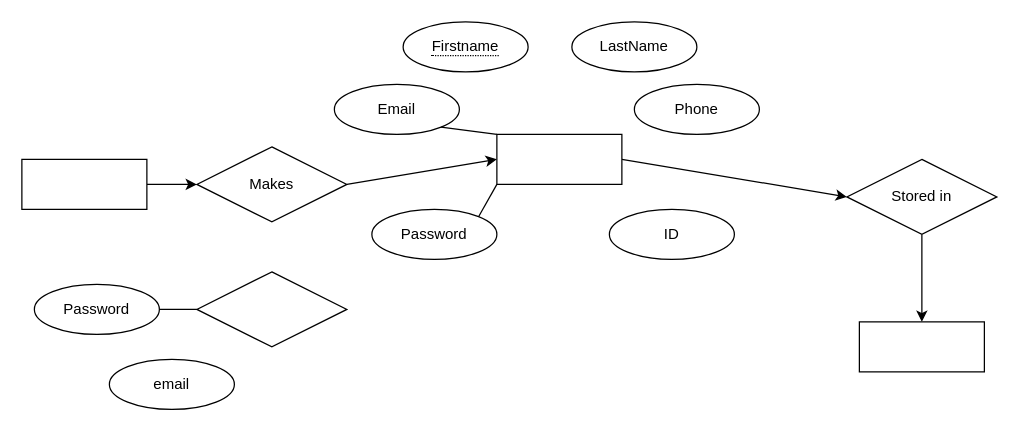
This 1019x431 diagram has some shape labels left out. The box of each missing label's shape, as (x1, y1, x2, y2) in pixels:
Account: (496, 133, 622, 184)
Logs in: (196, 271, 347, 347)
User: (21, 158, 147, 209)
User Table: (858, 321, 984, 372)
